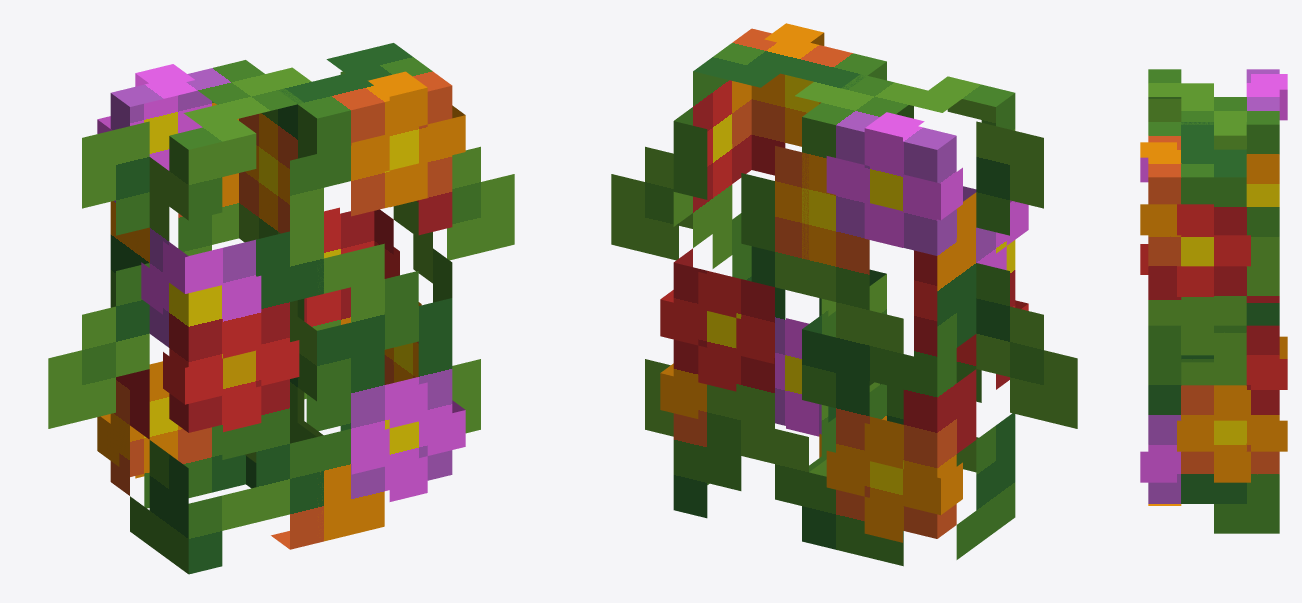
File: sl_flower_legs.glb
3 views of the same model, side by side, from view 1: azimuth 30°, elevation 25°; view 2: azimuth 150°, elevation 25°; view 3: azimuth 270°, elevation 25° (orthographic). The views are drawn at different scales.
Visible parts, largest first — view 1: bb_flower_legs; view 2: bb_flower_legs; view 3: bb_flower_legs.
Boxes of the visible parts, x1,y1,x2,y2 form: bb_flower_legs: (48, 43, 514, 574); bb_flower_legs: (611, 23, 1077, 566); bb_flower_legs: (1140, 69, 1287, 533).
Size of the model in its own units: 0.9875 by 0.7812 by 0.2812.
1 material, 1 textured.
